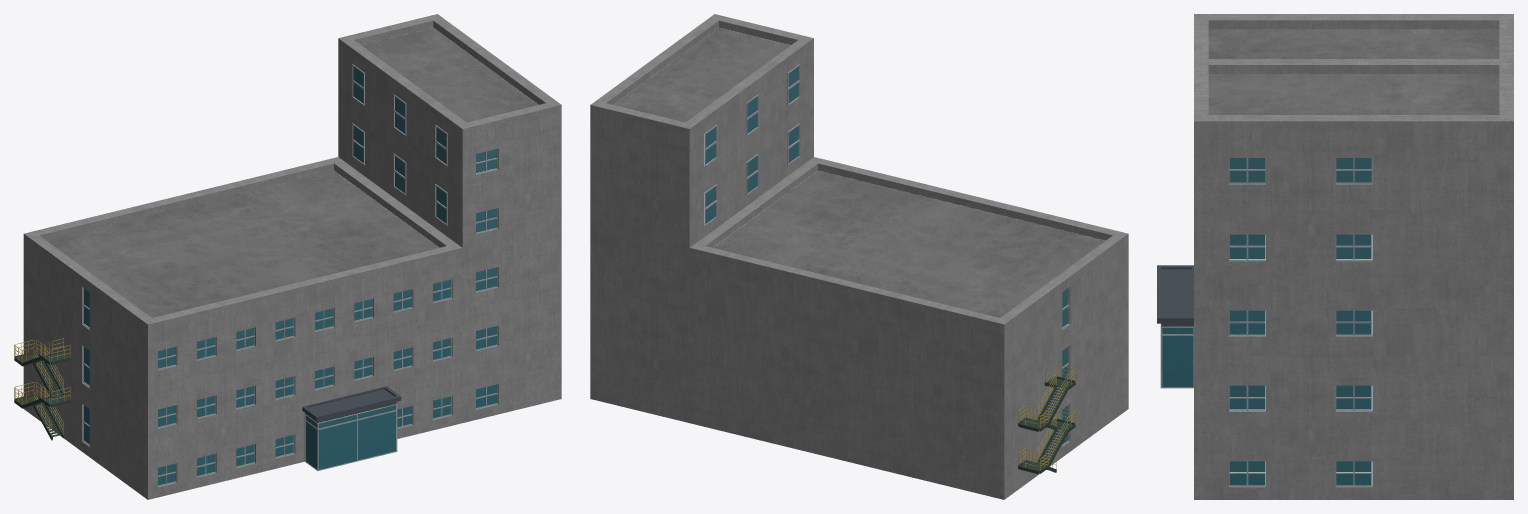
File: 球团办公楼.glb
3 views of the same model, side by side, from view 1: azimuth 30°, elevation 25°; view 2: azimuth 150°, elevation 25°; view 3: azimuth 270°, elevation 25° (orthographic). The views are drawn at different scales.
Parts seen in each view (by area): view 1: 造球办公楼07, 造球办公楼00, 造球办公楼02, 造球办公楼03, 造球办公楼05, 造球办公楼04, 造球办公楼06; view 2: 造球办公楼07, 造球办公楼00, 造球办公楼02, 造球办公楼05, 造球办公楼06, 造球办公楼03; view 3: 造球办公楼07, 造球办公楼00, 造球办公楼02, 造球办公楼03, 造球办公楼04.
Part boxes in pixels (bbox=[...]): 造球办公楼07: bbox=[23, 14, 561, 499]; 造球办公楼00: bbox=[47, 27, 538, 317]; 造球办公楼02: bbox=[84, 66, 496, 485]; 造球办公楼03: bbox=[83, 64, 497, 486]; 造球办公楼05: bbox=[14, 350, 71, 440]; 造球办公楼04: bbox=[302, 386, 401, 422]; 造球办公楼06: bbox=[14, 338, 70, 437]; 造球办公楼07: bbox=[590, 14, 1128, 499]; 造球办公楼00: bbox=[613, 27, 1105, 317]; 造球办公楼02: bbox=[705, 66, 1067, 444]; 造球办公楼05: bbox=[1018, 376, 1075, 473]; 造球办公楼06: bbox=[1018, 364, 1075, 470]; 造球办公楼03: bbox=[704, 64, 1069, 445]; 造球办公楼07: bbox=[1194, 14, 1513, 499]; 造球办公楼00: bbox=[1208, 29, 1499, 182]; 造球办公楼02: bbox=[1162, 158, 1371, 485]; 造球办公楼03: bbox=[1160, 158, 1372, 486]; 造球办公楼04: bbox=[1157, 265, 1193, 326].
Size of the model in its own units: 28.81 by 18.54 by 15.83.
7 materials, 7 textured.
